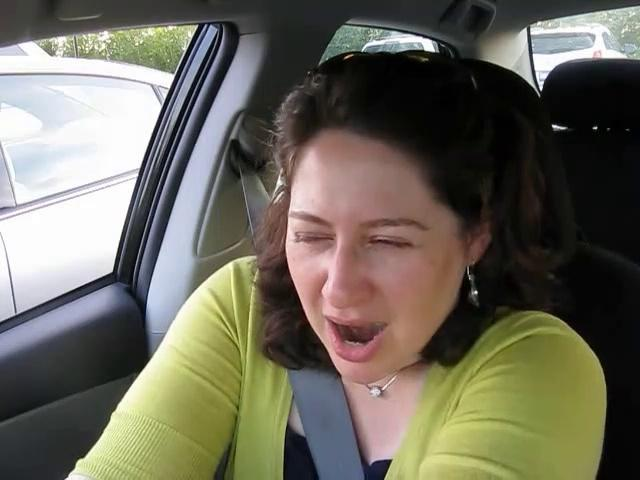close_eyeL: (282, 217, 341, 260)
close_eyeR: (349, 224, 427, 262)
yawn: (314, 309, 401, 362)
